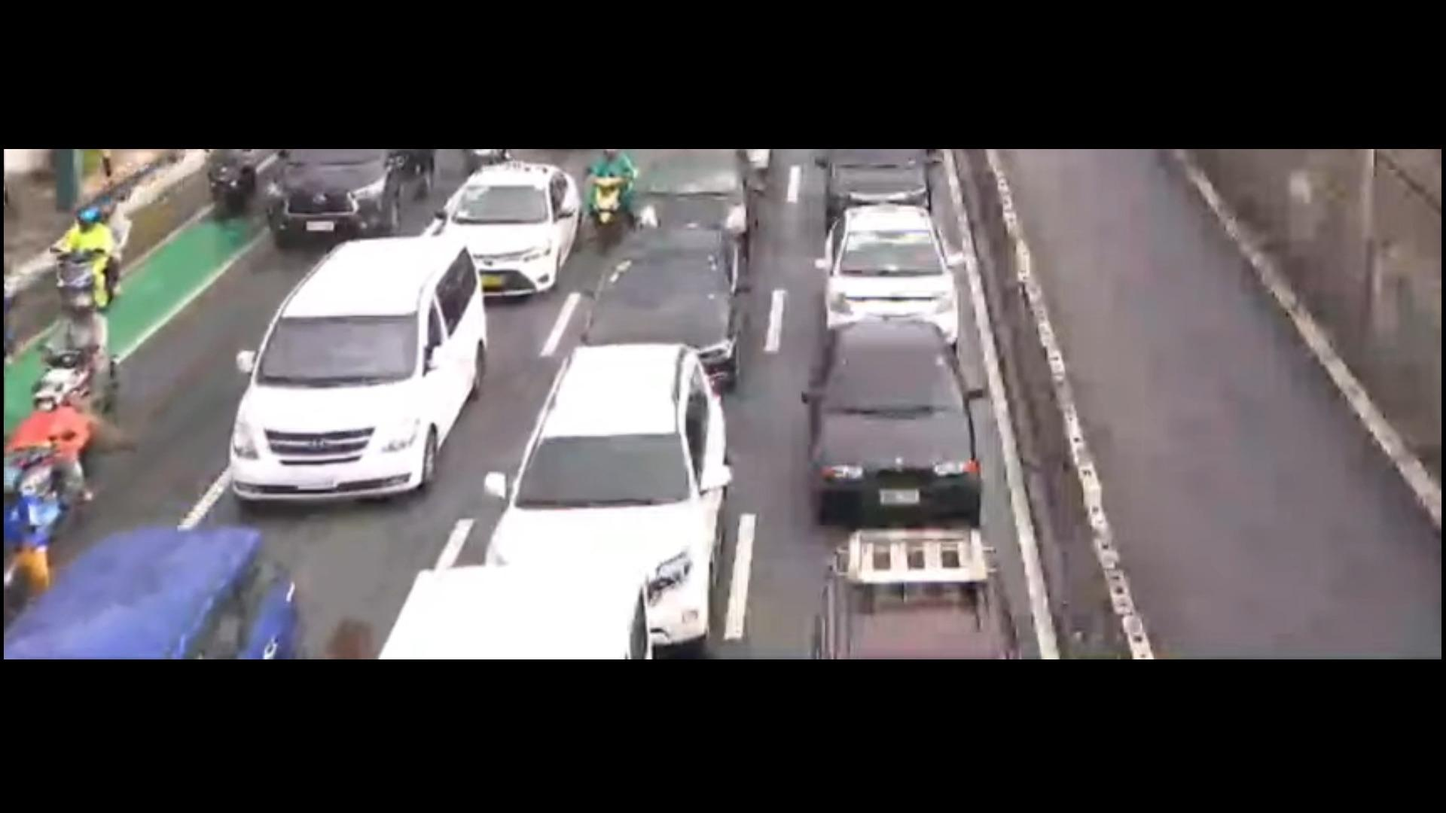Motorcycle: (0, 367, 90, 585), (32, 279, 117, 438), (56, 186, 124, 320), (578, 152, 638, 252), (200, 145, 256, 224)
SUV: (222, 237, 490, 506), (499, 339, 727, 642), (0, 525, 296, 668), (813, 314, 977, 510), (802, 527, 1026, 655), (260, 137, 431, 233)
Sedan: (574, 226, 744, 375), (811, 213, 953, 344)
